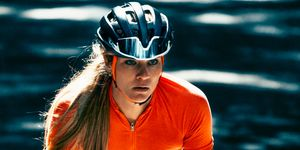helmet: (96, 2, 174, 104)
